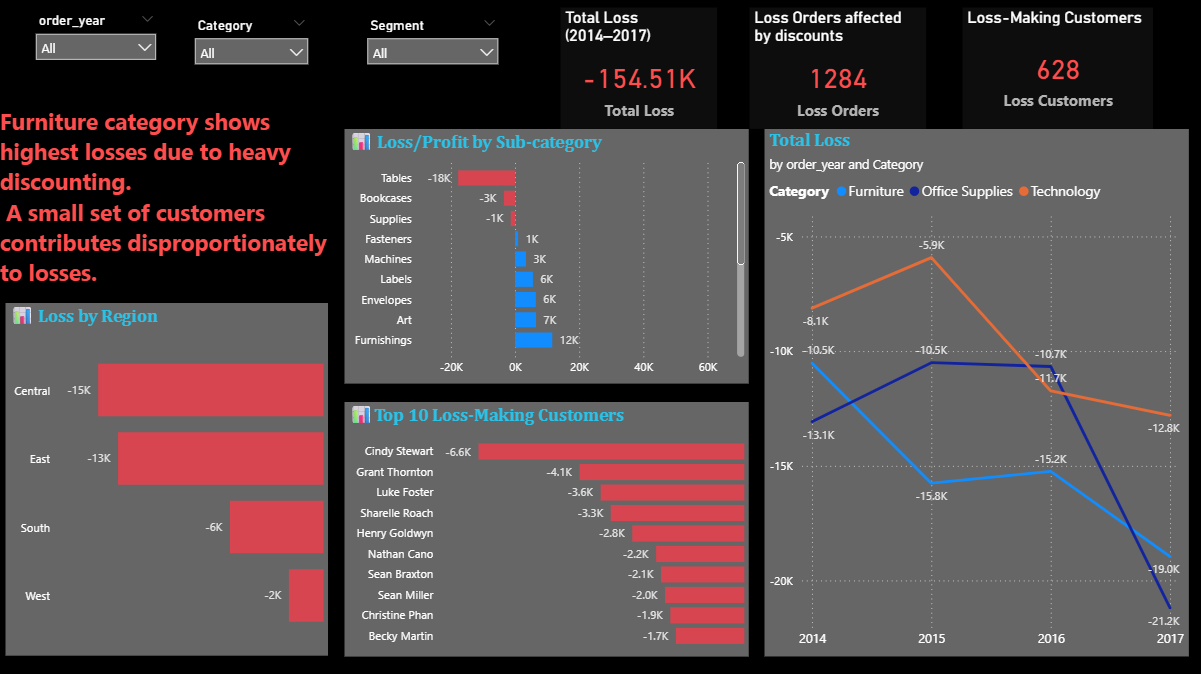

This screenshot's page, from the dashboard's own definition file:
{"tool":"powerbi","page":{"name":"Page 2","canvas":[1280,720],"ordinal":1},"visuals":[{"type":"card","title":"Loss Orders affected by discounts","fields":{"Values":["superstore.Loss Orders"]},"box":[799.4,11.3,187.1,128.5],"z":0},{"type":"card","title":"Total Loss (2014–2017)","fields":{"Values":["superstore.Total Loss"]},"box":[599.1,11.3,166.3,128.5],"z":1000},{"type":"card","title":"Loss-Making Customers","fields":{"Values":["superstore.Loss Customers"]},"box":[1026.1,11.3,202.2,128.5],"z":2000},{"type":"clusteredBarChart","title":"📊 Loss/Profit by Sub-category","fields":{"Category":["superstore.Sub-Category","superstore.Category"],"Y":["superstore.Total Profit"]},"box":[370.4,139.8,429,270.2],"z":3000},{"type":"slicer","fields":{"Values":["superstore.order_year"]},"box":[34,11.3,147.4,94.5],"z":4000},{"type":"slicer","fields":{"Values":["superstore.Category"]},"box":[202.2,15.1,139.8,94.5],"z":5000},{"type":"slicer","fields":{"Values":["superstore.Segment"]},"box":[385.5,15.1,158.7,94.5],"z":6000},{"type":"clusteredBarChart","title":"📊 Loss by Region","fields":{"Category":["superstore.Region","superstore.Category","superstore.Sub-Category"],"Y":["superstore.Total Profit"]},"box":[11.3,325,342,374.2],"z":7000},{"type":"clusteredBarChart","title":"📊Top 10 Loss-Making Customers","fields":{"Category":["superstore.Customer Name"],"Y":["superstore.Total Profit"]},"box":[370.4,429,429,270.2],"z":8000},{"type":"textbox","box":[0,109.6,362.8,232.4],"z":9000},{"type":"lineChart","fields":{"Category":["superstore.order_year"],"Series":["superstore.Category"],"Y":["superstore.Total Loss"]},"box":[816.4,139.8,449.8,559.4],"z":9001}]}

Visuals, with their boxes in screenshot pixels (x1, y1, x2, y2), scaled from the page's 1280x720 canvas onto the 1201x674 screenshot:
"Loss Orders affected by discounts" card: [x1=750, y1=11, x2=926, y2=131]
"Total Loss (2014–2017)" card: [x1=562, y1=11, x2=718, y2=131]
"Loss-Making Customers" card: [x1=963, y1=11, x2=1152, y2=131]
"📊 Loss/Profit by Sub-category" clusteredBarChart: [x1=348, y1=131, x2=750, y2=384]
slicer - superstore.order_year: [x1=32, y1=11, x2=170, y2=99]
slicer - superstore.Category: [x1=190, y1=14, x2=321, y2=103]
slicer - superstore.Segment: [x1=362, y1=14, x2=511, y2=103]
"📊 Loss by Region" clusteredBarChart: [x1=11, y1=304, x2=331, y2=655]
"📊Top 10 Loss-Making Customers" clusteredBarChart: [x1=348, y1=402, x2=750, y2=655]
textbox: [x1=0, y1=103, x2=340, y2=320]
lineChart - superstore.order_year x superstore.Category: [x1=766, y1=131, x2=1188, y2=655]
